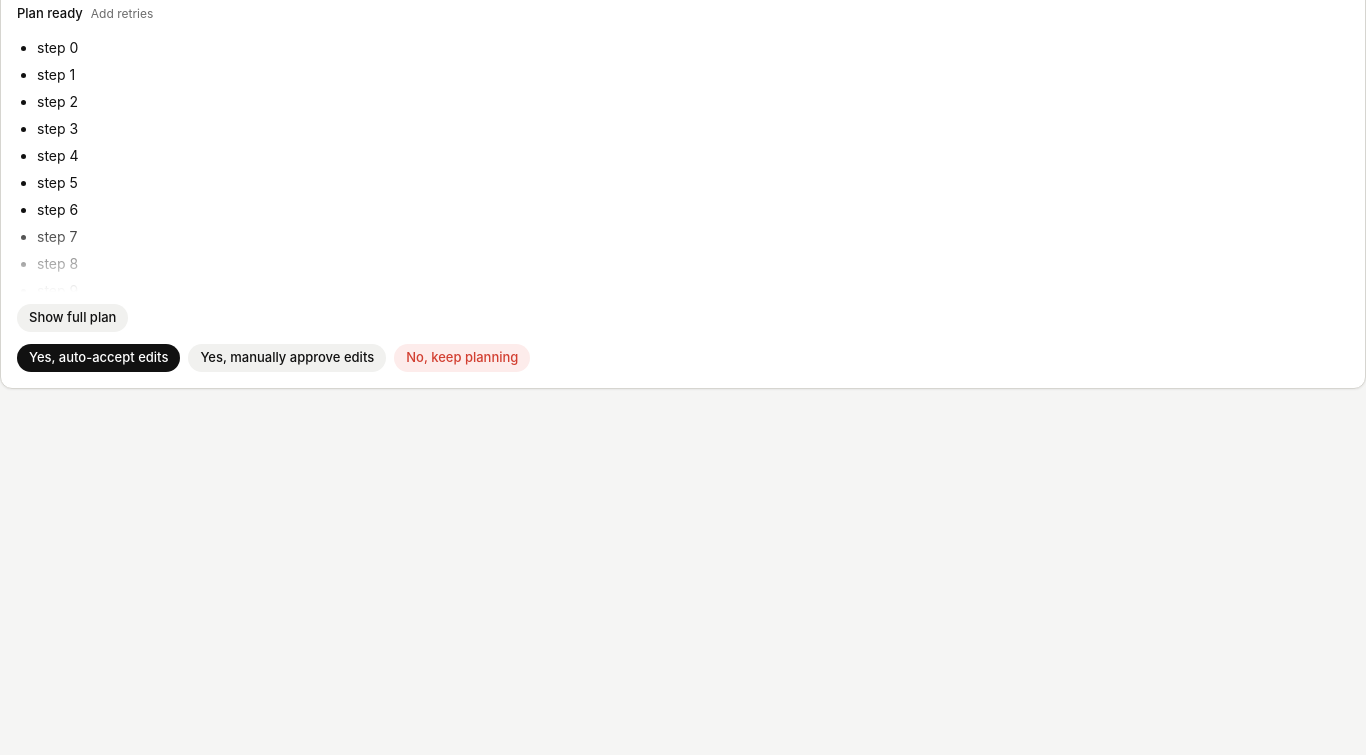
ApprovalCard for a plan (A54) › folds a long plan until asked to show it whole
This screenshot has width=1366, height=755.
Step 1. Click the button "Show full plan" → (73, 318), box [17, 304, 128, 332]
(page scrolled)
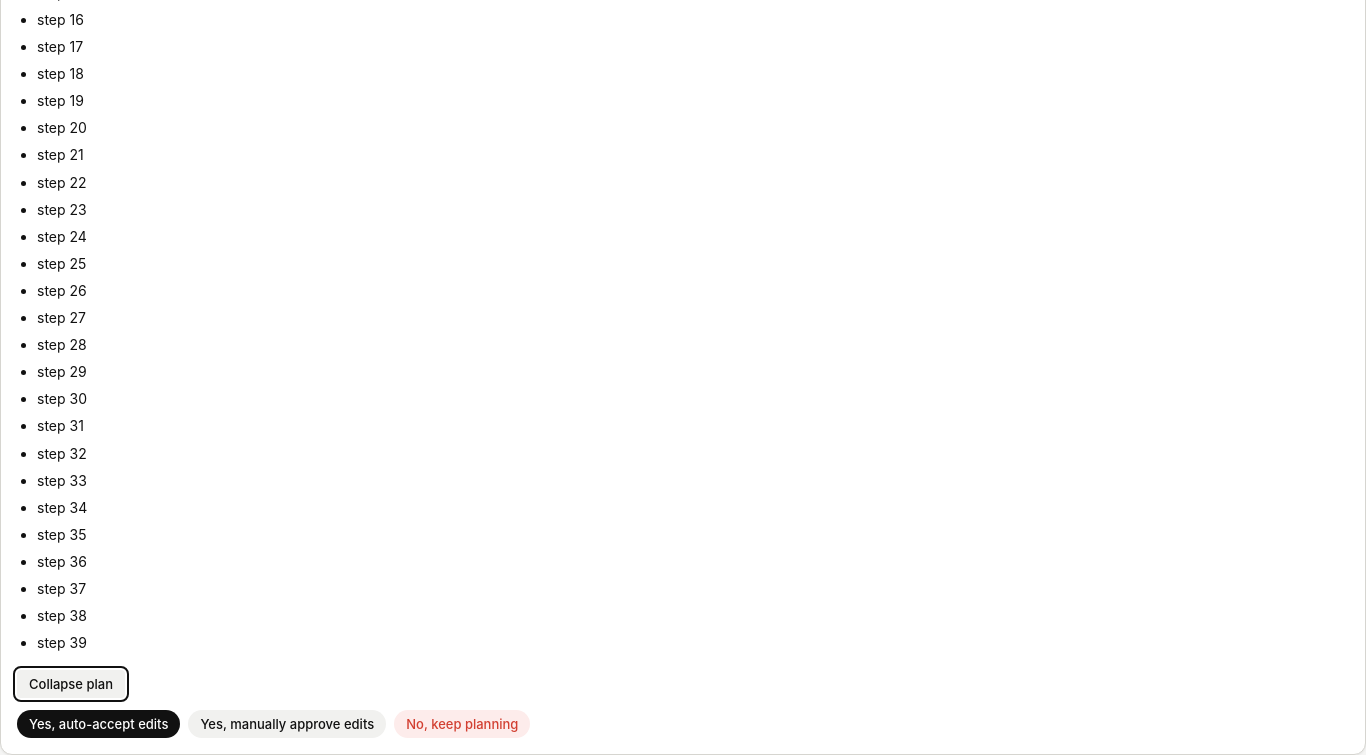
Expected: the button "Collapse plan" is shown, [17, 670, 125, 698]
